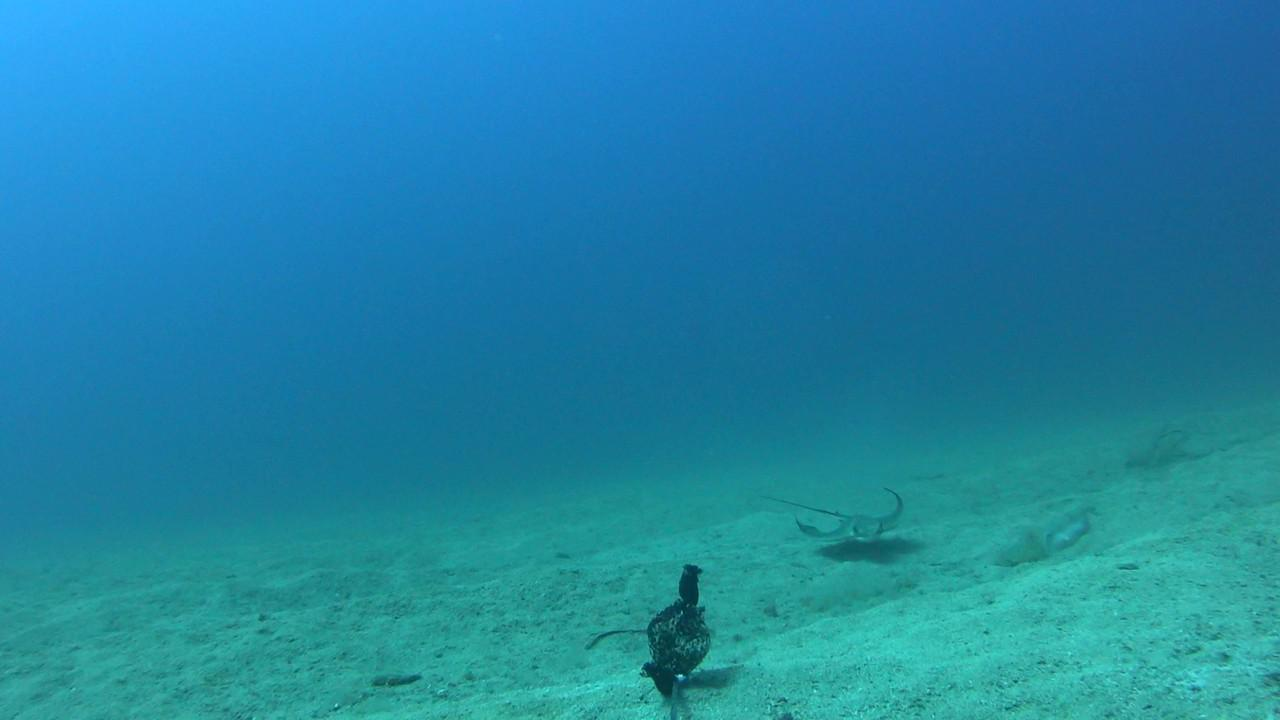myliobatis: (754, 474, 925, 556)
raor: (1042, 506, 1098, 556)
